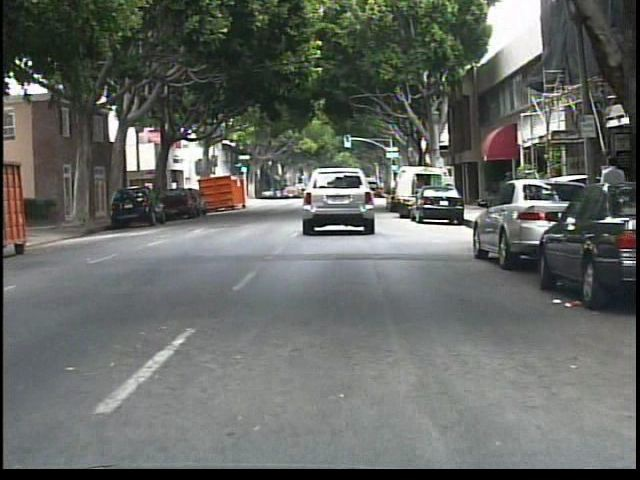person: (593, 150, 631, 248)
